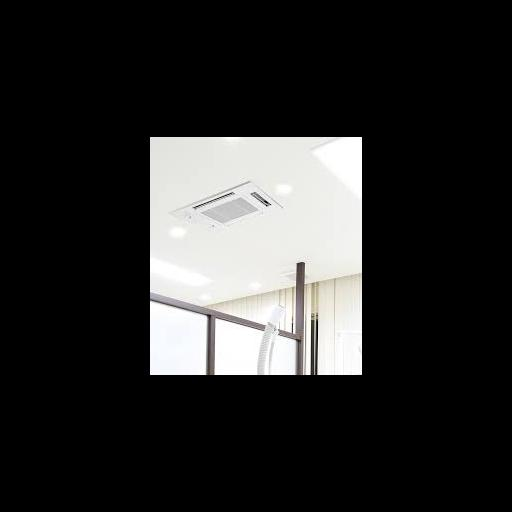4-way-ac: (170, 182, 284, 233)
